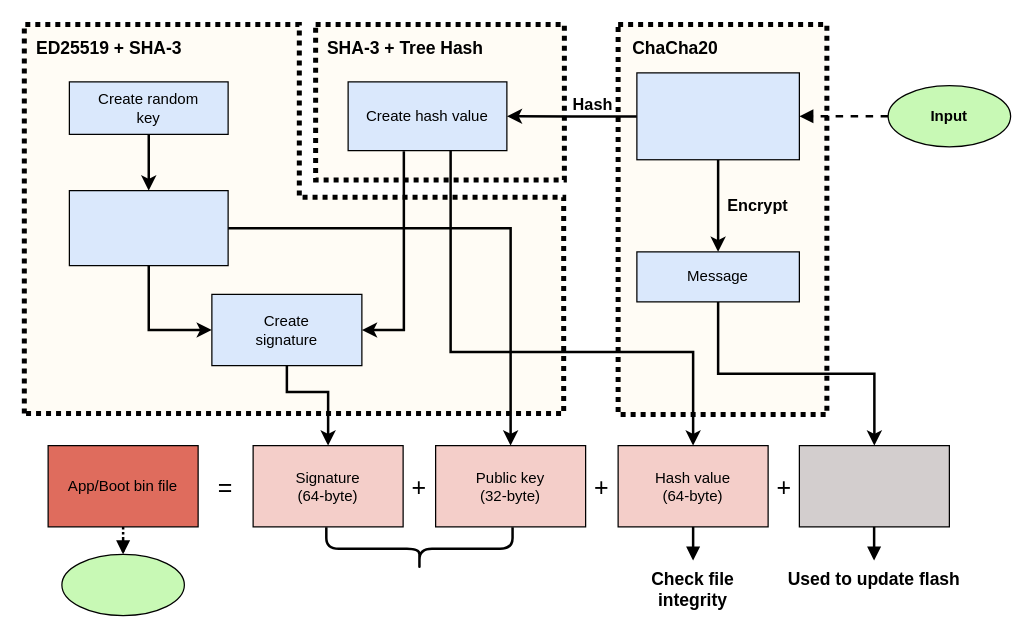
The diagram is 1033 pixels wide and 638 high, and some of its shapes have lost their labels. The centre of each missing label's shape, as x and y in pixels:
Create public key, privatekey: [148,227]
Massage: [873,485]
Output: [122,584]
The bin file post-compiling: [717,116]
Used to attest: [418,548]
